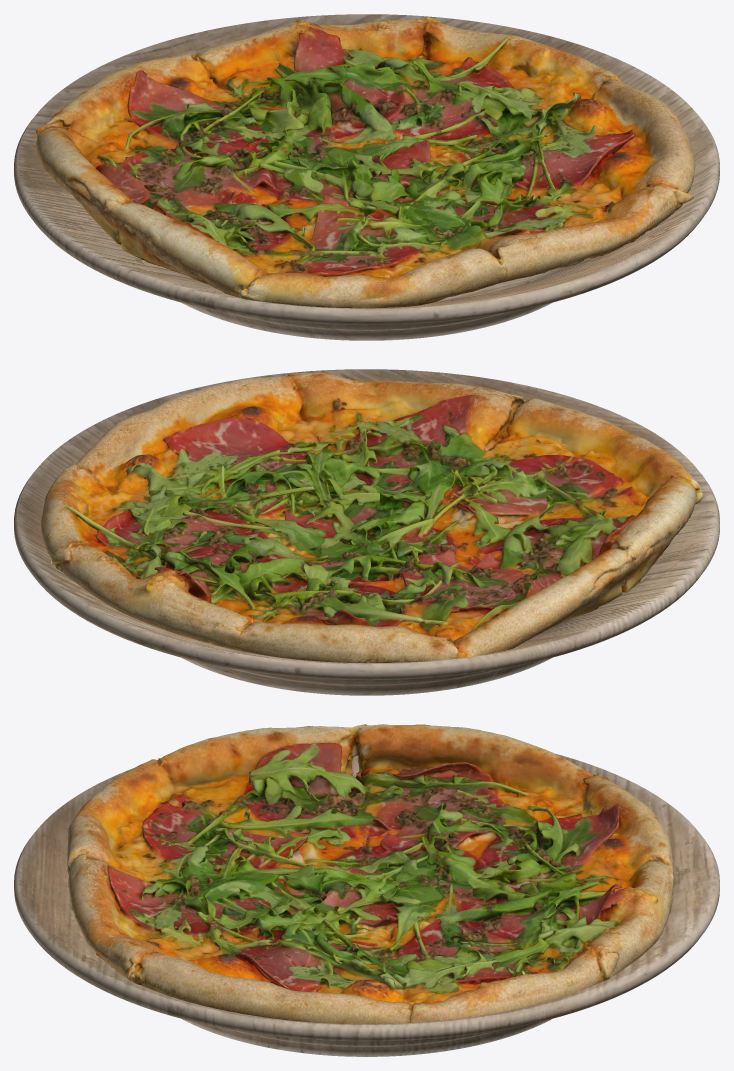
Rendered from pizza.glb.
3 renders of one model, top to bottom at view 1: azimuth 30°, elevation 25°; view 2: azimuth 150°, elevation 25°; view 3: azimuth 270°, elevation 25°, orthographic.
Parts seen in each view (by area): view 1: pizza_pizza_0, Tarelka001__0; view 2: pizza_pizza_0, Tarelka001__0; view 3: pizza_pizza_0, Tarelka001__0.
Part boxes in pixels (x1,y1,x2,y2): pizza_pizza_0: [36, 16, 695, 308]; Tarelka001__0: [14, 14, 719, 340]; pizza_pizza_0: [41, 372, 703, 662]; Tarelka001__0: [14, 369, 719, 695]; pizza_pizza_0: [67, 724, 673, 1024]; Tarelka001__0: [14, 753, 719, 1056].
Size of the model in its own units: 0.6031 by 0.1028 by 0.6031.
Materials: 2 (2 with a texture image).
